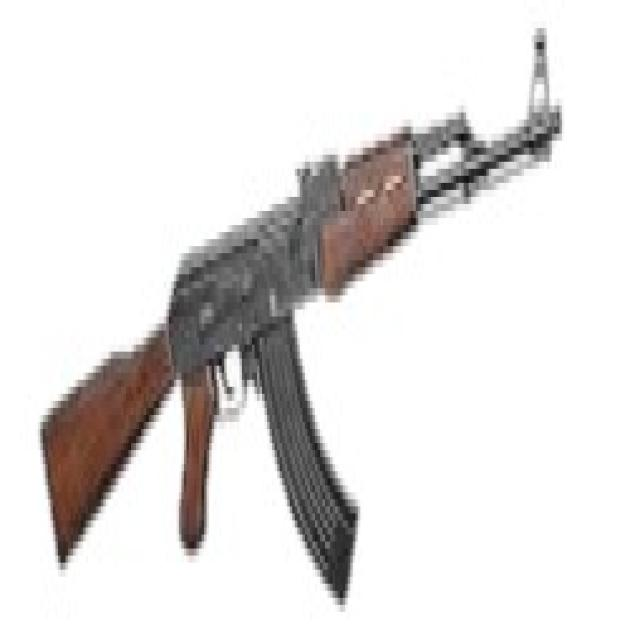rifle: (40, 20, 567, 614)
